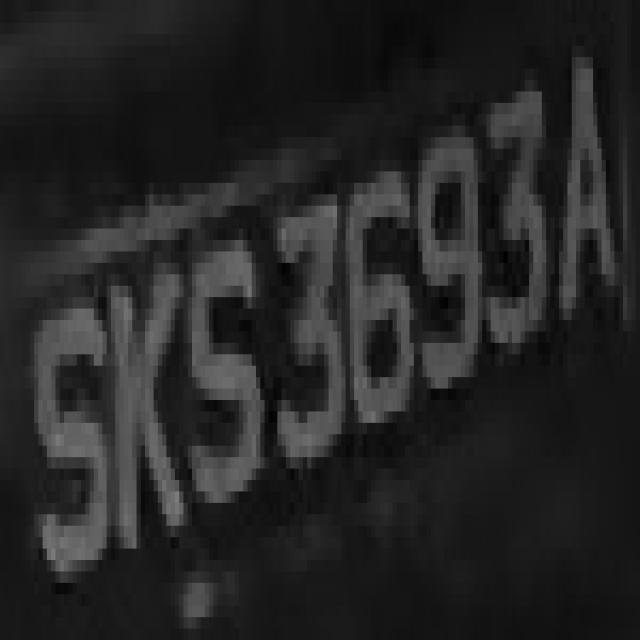3: (474, 34, 550, 400), (268, 148, 346, 492)
6: (342, 80, 422, 446)
9: (414, 46, 486, 411)
A: (550, 0, 628, 366)
K: (107, 240, 192, 571)
S: (17, 252, 120, 594), (179, 217, 273, 549)
